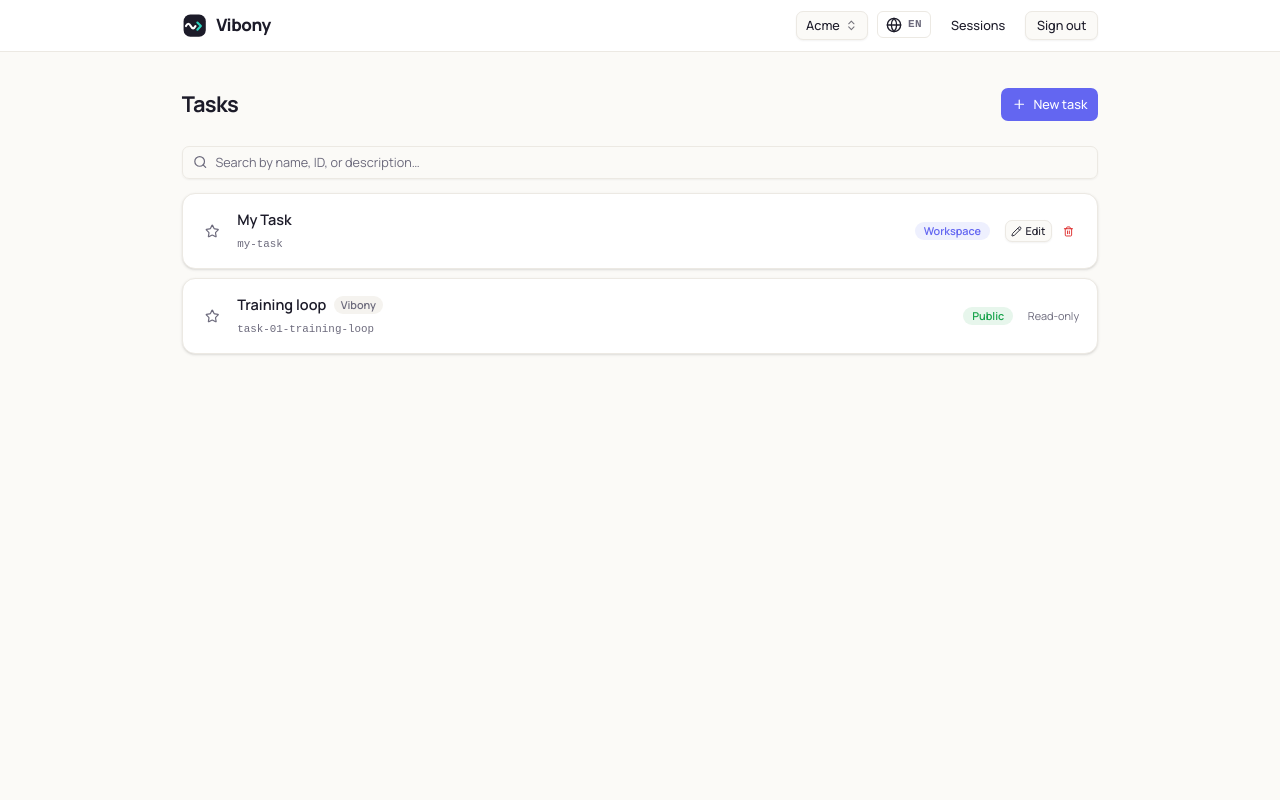
Test: TasksPage › delete flow removes the row
Expected: the element with test id "task-row-own1" is shown, [182,193,1098,269]
What coordinates should you click on to do the following:
click the button with test id "task-delete-own1"
I would click on:
 (1068, 231)
Its box is [1057,220,1079,242].
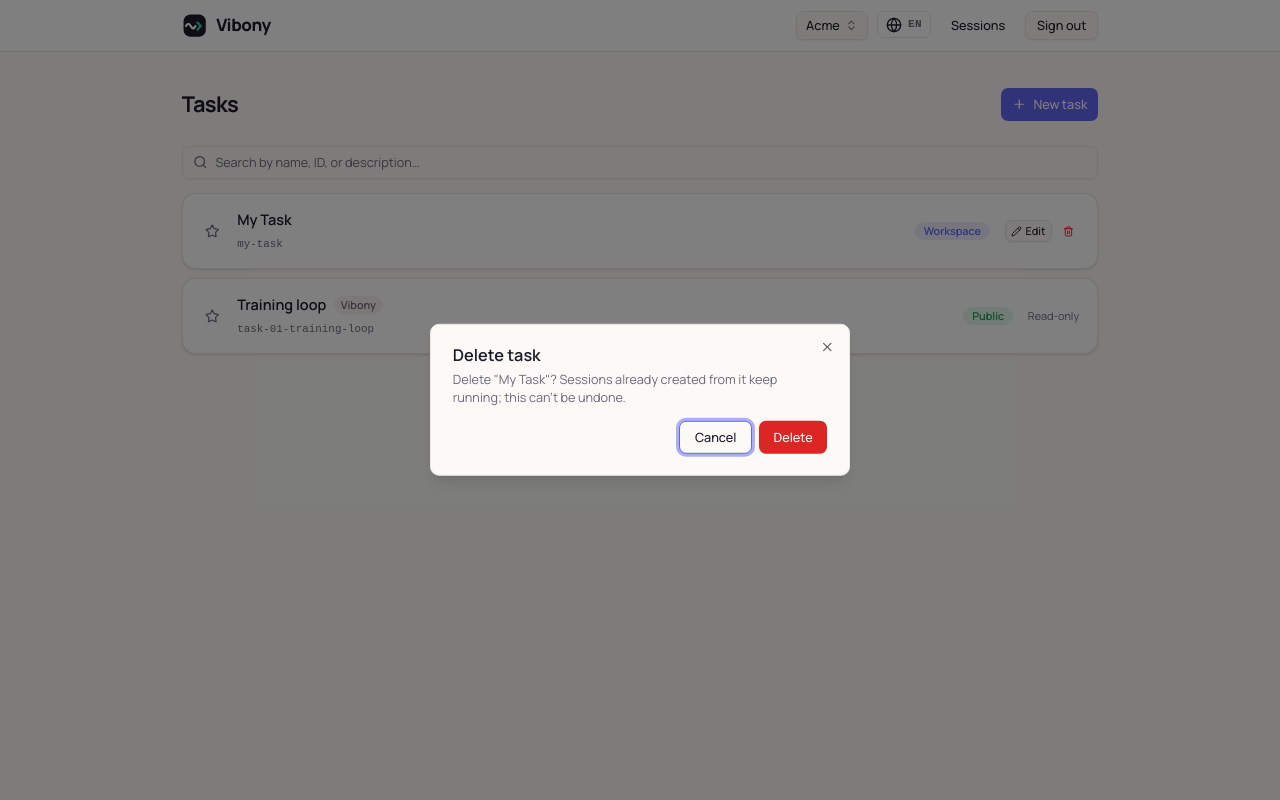
Expected: the dialog with test id "delete-modal" is shown, [430,324,850,476]
What coordinates should you click on to do the following:
click the button with test id "delete-confirm"
I would click on:
 (793, 437)
Its box is [759,421,827,453].
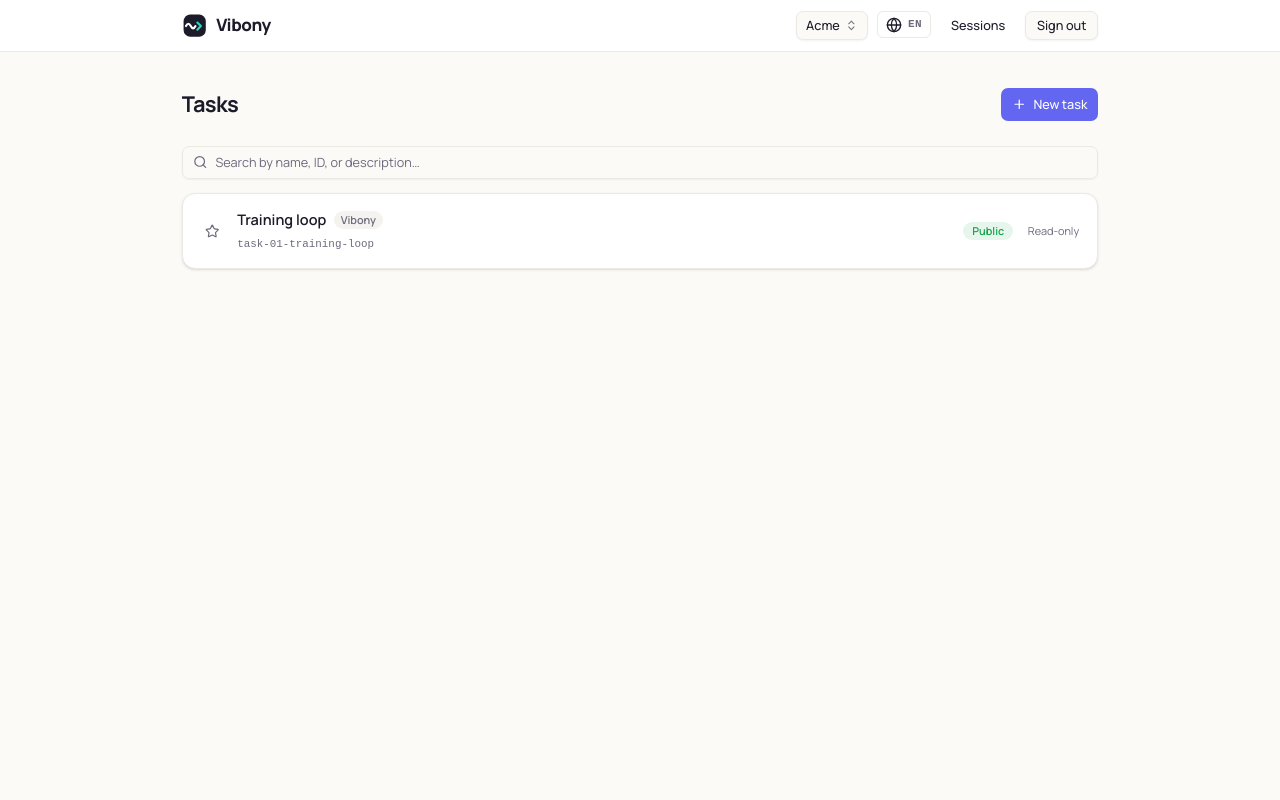
Expected: the element with test id "task-row-tmpl1" is shown, [182,193,1098,269]
Expected: the element with test id "task-row-own1" is gone
